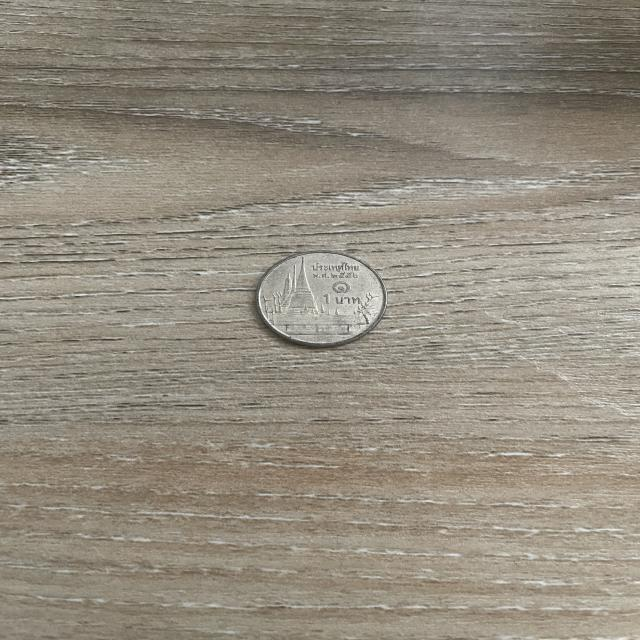1 Bath: (249, 244, 398, 357)
